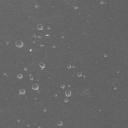corrosion: (14, 39, 24, 48), (17, 88, 27, 95), (31, 84, 40, 91), (36, 24, 44, 31), (16, 73, 24, 80), (38, 62, 46, 69), (56, 119, 63, 127), (64, 91, 72, 97), (77, 71, 83, 78), (60, 83, 66, 89), (72, 5, 79, 10), (23, 66, 28, 72), (28, 76, 34, 81), (32, 34, 38, 39), (50, 45, 57, 49), (40, 43, 45, 48), (42, 108, 48, 112), (67, 65, 72, 69), (34, 4, 39, 8), (103, 54, 108, 58), (29, 48, 33, 53), (44, 34, 50, 37), (3, 73, 7, 77)
